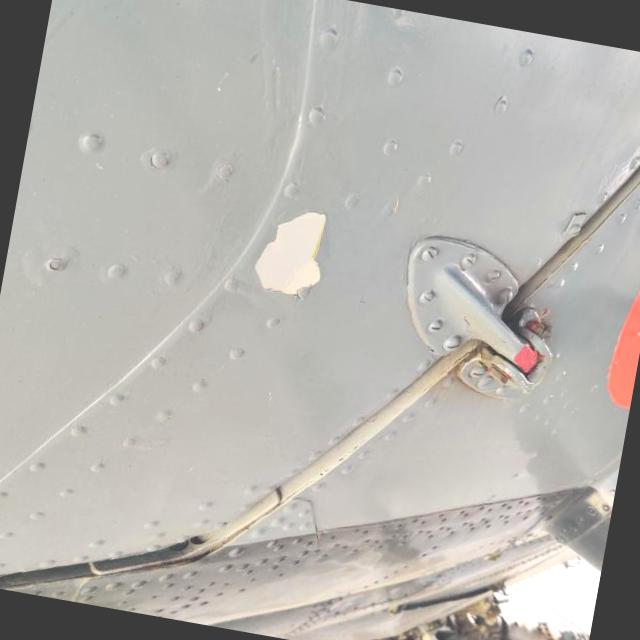paint-off: (238, 191, 347, 314)
